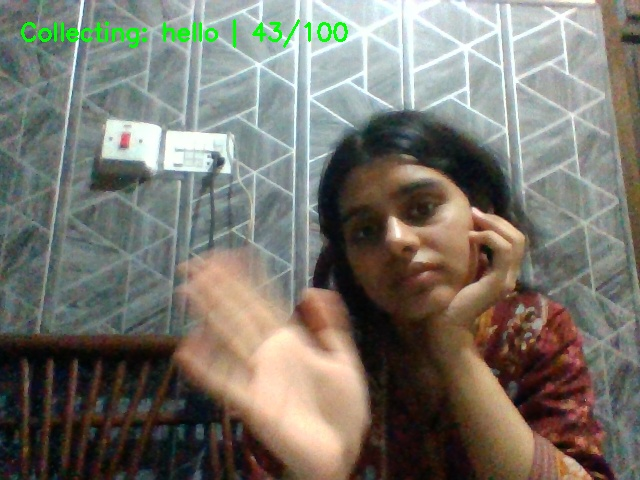hello: (152, 243, 381, 480)
